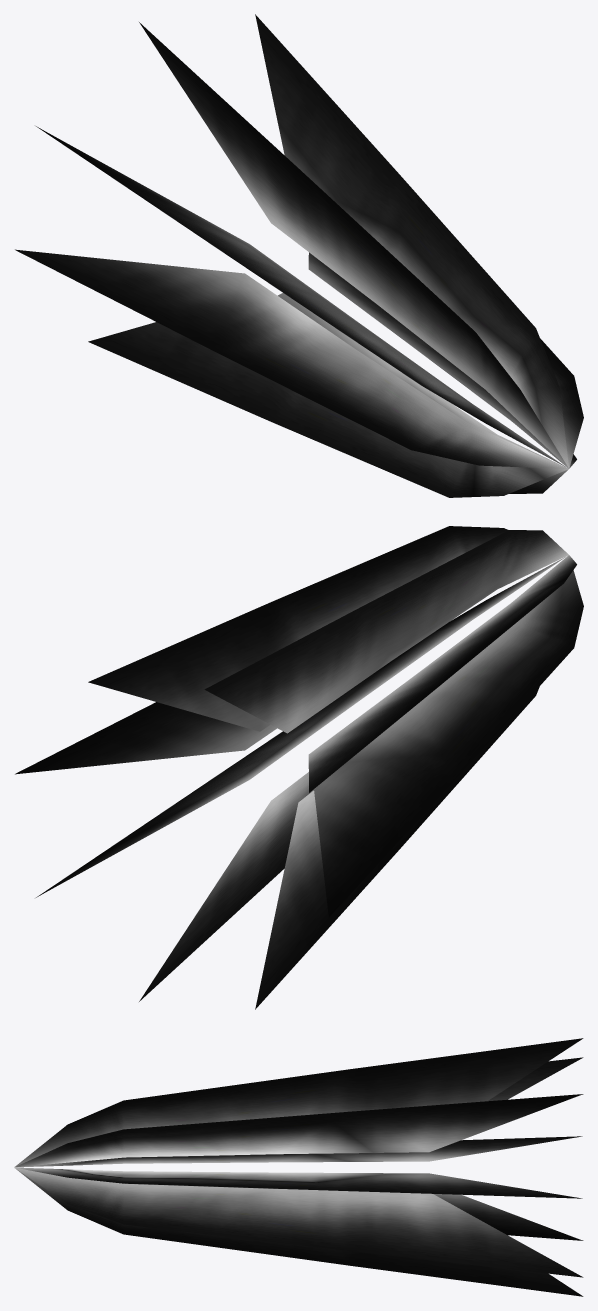
Rendered from yinxinchangmao002.fbx.
3 views of the same model, one above another, from view 1: azimuth 30°, elevation 25°; view 2: azimuth 150°, elevation 25°; view 3: azimuth 270°, elevation 25° (orthographic). The views are drawn at different scales.
Parts seen in each view (by area): view 1: yinxinchangmao002; view 2: yinxinchangmao002; view 3: yinxinchangmao002.
Part boxes in pixels (left/top/right/bottom): yinxinchangmao002: left=15, top=14, right=583, bottom=497; yinxinchangmao002: left=15, top=526, right=583, bottom=1009; yinxinchangmao002: left=14, top=1038, right=583, bottom=1296.
Size of the model in its own units: 165 by 165 by 361.
